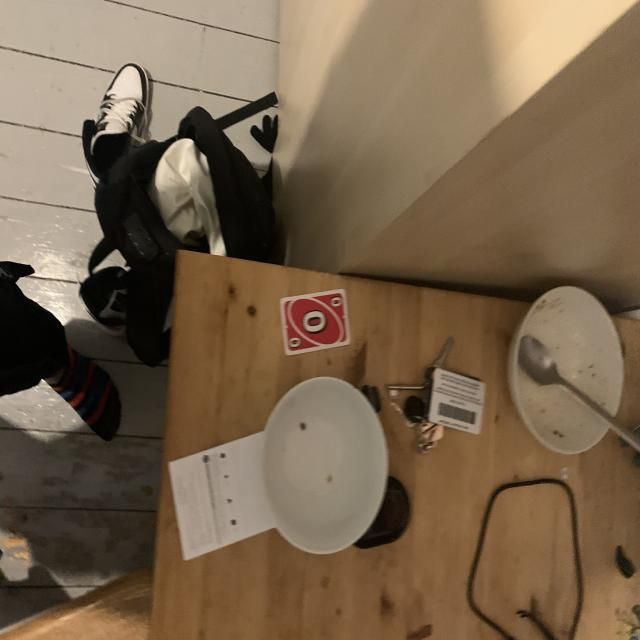lred-0: (329, 294, 344, 309)
